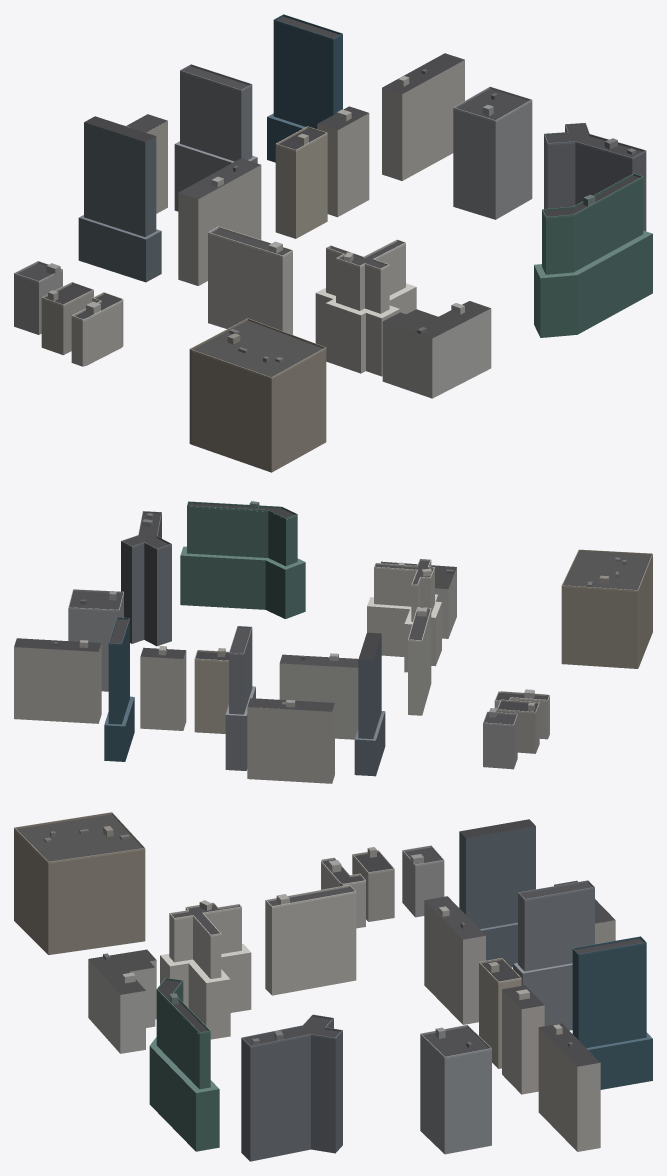
Rendered from 6_-1.bld.glb.
The picture shows the model from 3 angles, top to bottom: view 1: azimuth 30°, elevation 25°; view 2: azimuth 150°, elevation 25°; view 3: azimuth 270°, elevation 25°; orthographic projection. The views are drawn at different scales.
Visible parts, largest first — view 1: 6_-1; view 2: 6_-1; view 3: 6_-1.
Part boxes in pixels (<box>): 6_-1: <box>14,14,652,472</box>; 6_-1: <box>14,501,652,783</box>; 6_-1: <box>14,812,652,1161</box>.
Size of the model in its own units: 276 by 70.93 by 288.
